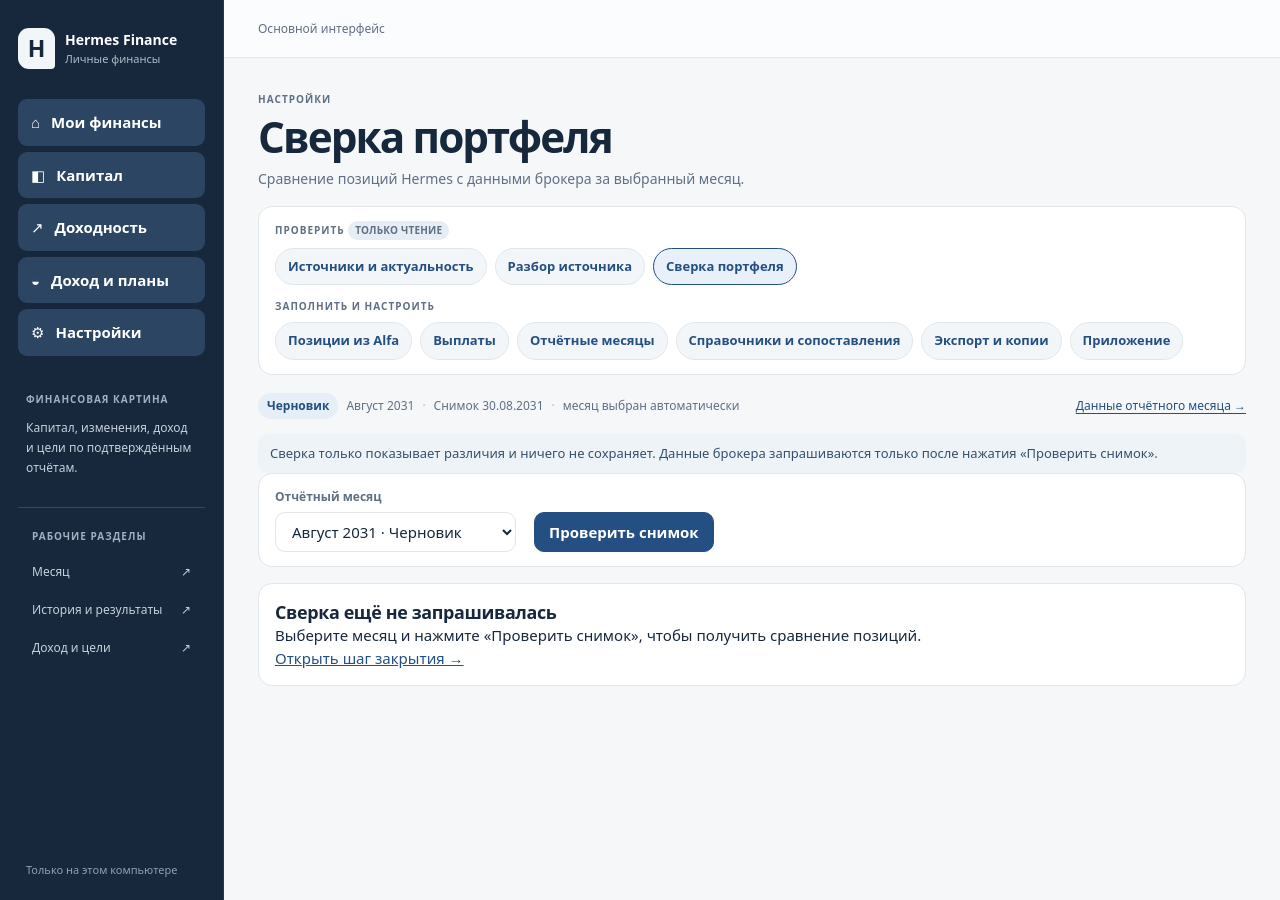
Test: UI v2 Data reconciliation › hides unsafe diagnostic text when the artifact gate fails
Click the button "Проверить снимок". click: [624, 532]
box: [534,512,714,552]
(page scrolled)
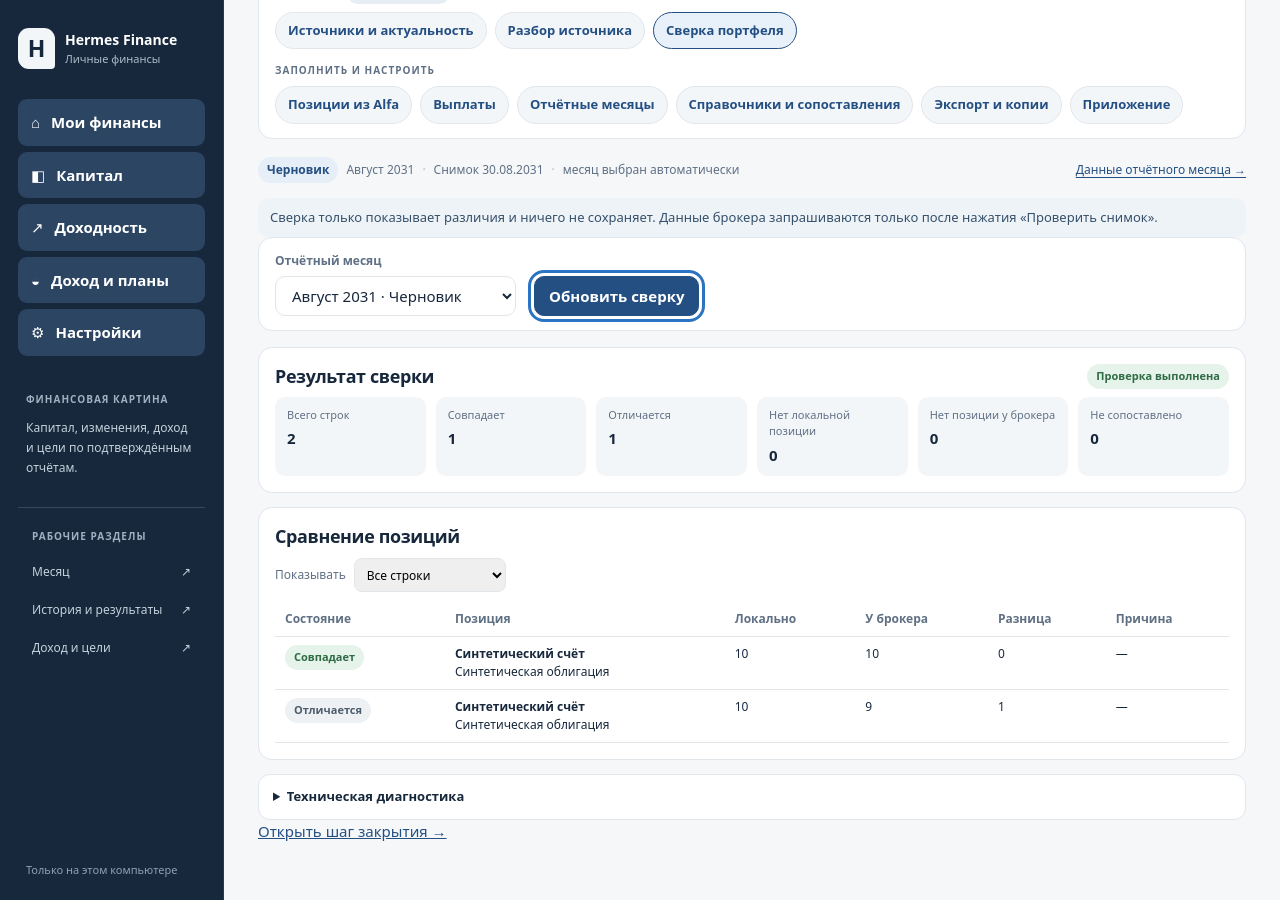
Click the heading "Техническая диагностика". click: [376, 796]
box: [287,787,464,805]
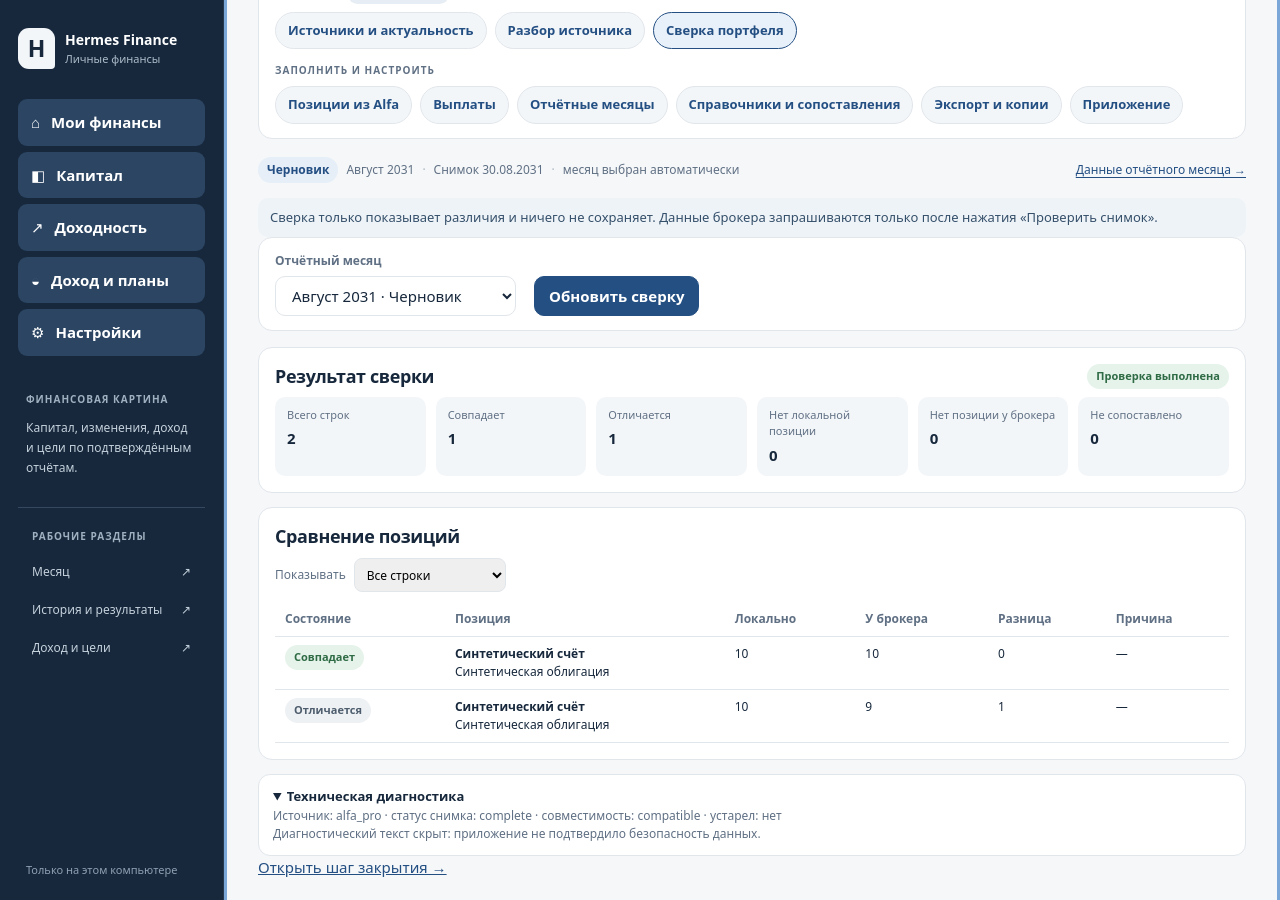
expect the element with test id "reconciliation-diagnostics" shows "Диагностический текст скрыт": met, box [273,825,761,842]
